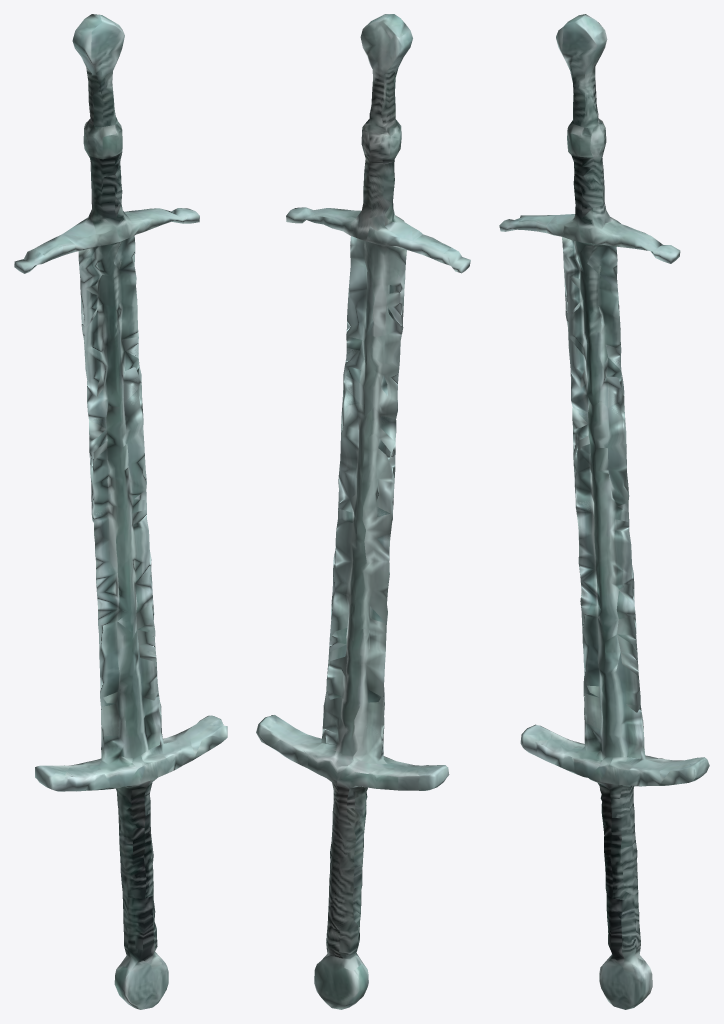
File: ayaz_kilic.glb
3 views of the same model, side by side, from view 1: azimuth 30°, elevation 25°; view 2: azimuth 150°, elevation 25°; view 3: azimuth 330°, elevation 25° (orthographic). The views are drawn at different scales.
Bounding box in the file's own units: 0.1566 × 0.7394 × 0.0309.
Materials: 1 (1 with a texture image).
